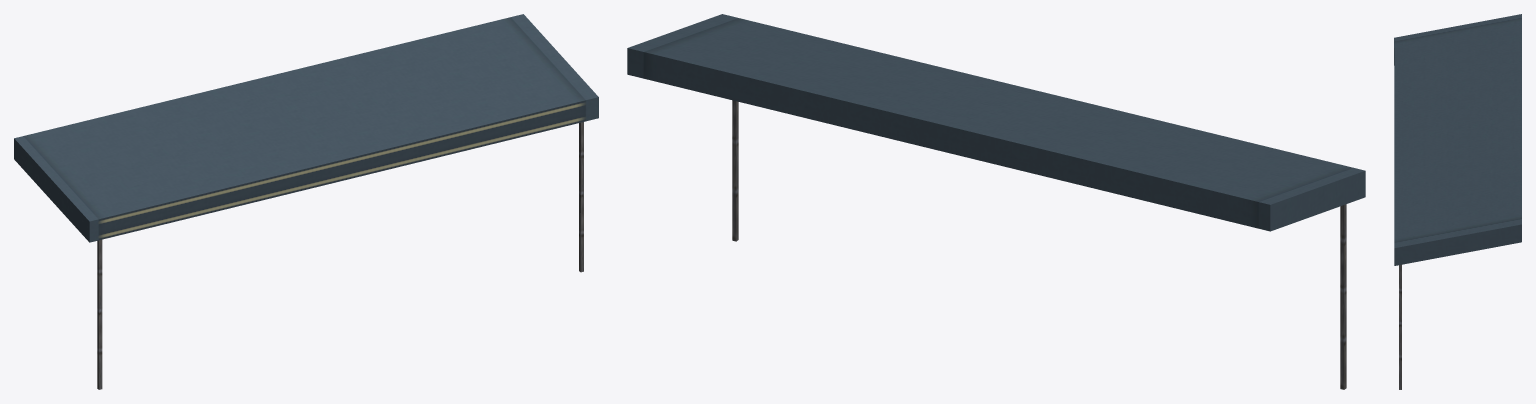
The model's file is TentCornner.fbx.
3 views of the same model, side by side, from view 1: azimuth 30°, elevation 25°; view 2: azimuth 150°, elevation 25°; view 3: azimuth 270°, elevation 25° (orthographic). The views are drawn at different scales.
Visible parts, largest first — view 1: TentCornner; view 2: TentCornner; view 3: TentCornner.
Part boxes in pixels (<box>): TentCornner: <box>14,14,598,389</box>; TentCornner: <box>627,14,1365,389</box>; TentCornner: <box>1394,14,1521,389</box>.
Size of the model in its own units: 88.26 by 33.36 by 22.63.
Materials: 1 (1 with a texture image).
